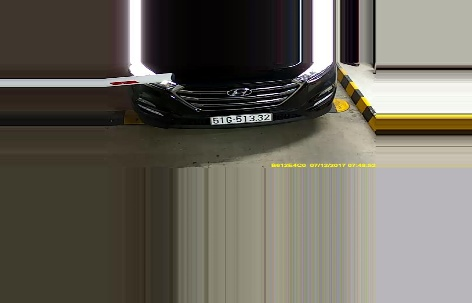plate: (208, 110, 272, 125)
